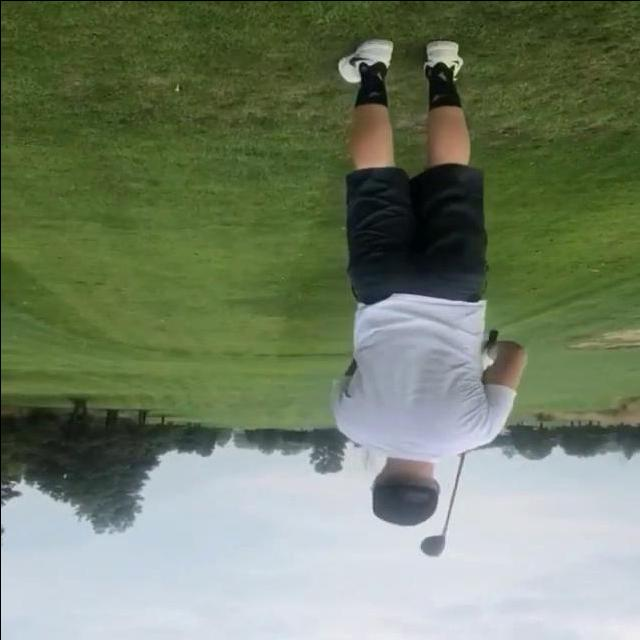golf club-handle: (415, 327, 501, 559)
golf club-head: (418, 533, 446, 556)
